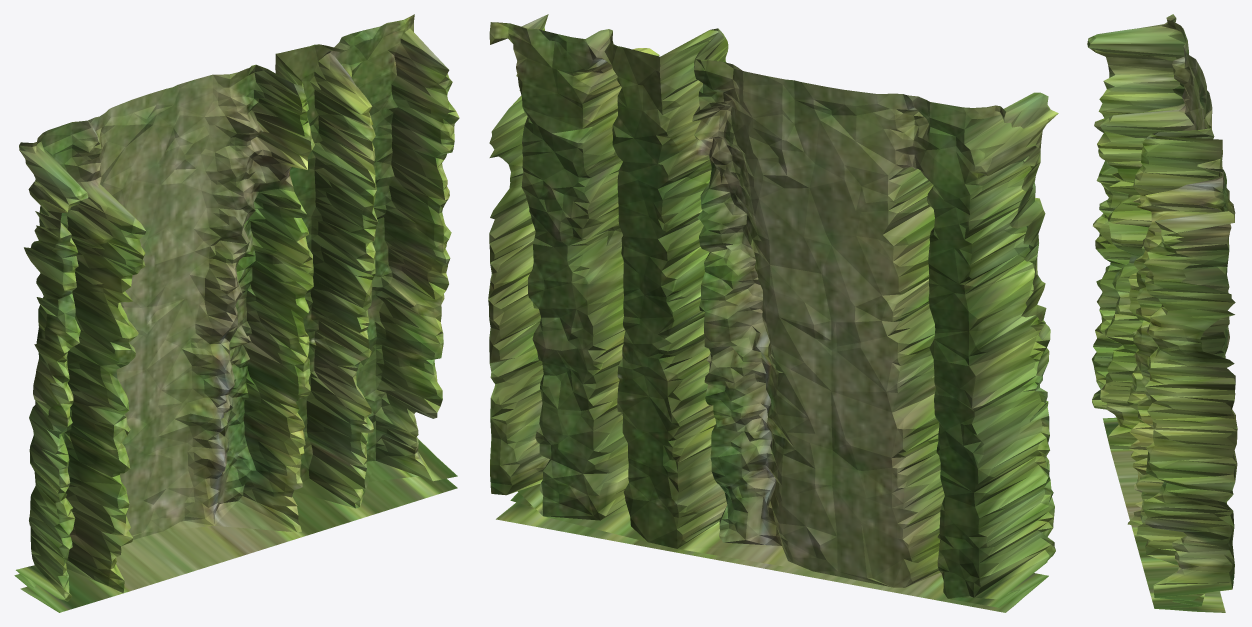
The model's file is map_0_10.obj.
3 renders of one model, left to right at view 1: azimuth 30°, elevation 25°; view 2: azimuth 150°, elevation 25°; view 3: azimuth 270°, elevation 25°, orthographic. The views are drawn at different scales.
Visible parts, largest first — view 1: grp1; view 2: grp1; view 3: grp1.
Part boxes in pixels (box(x1,y1,x2,y2)): grp1: box(14, 14, 459, 612); grp1: box(488, 14, 1058, 612); grp1: box(1087, 14, 1237, 612).
Bounding box in the file's own units: 10 × 10 × 3.34.
1 material, 1 textured.
